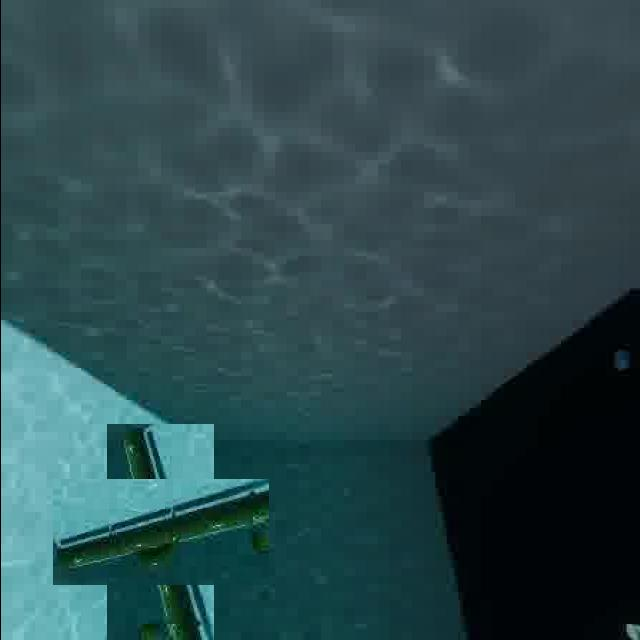Pipe: (79, 452, 240, 612)
